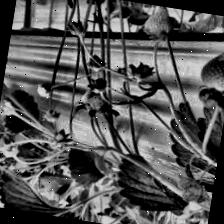Powdery Mildew Fruit: (197, 39, 224, 93), (142, 4, 178, 43), (78, 86, 110, 115)
